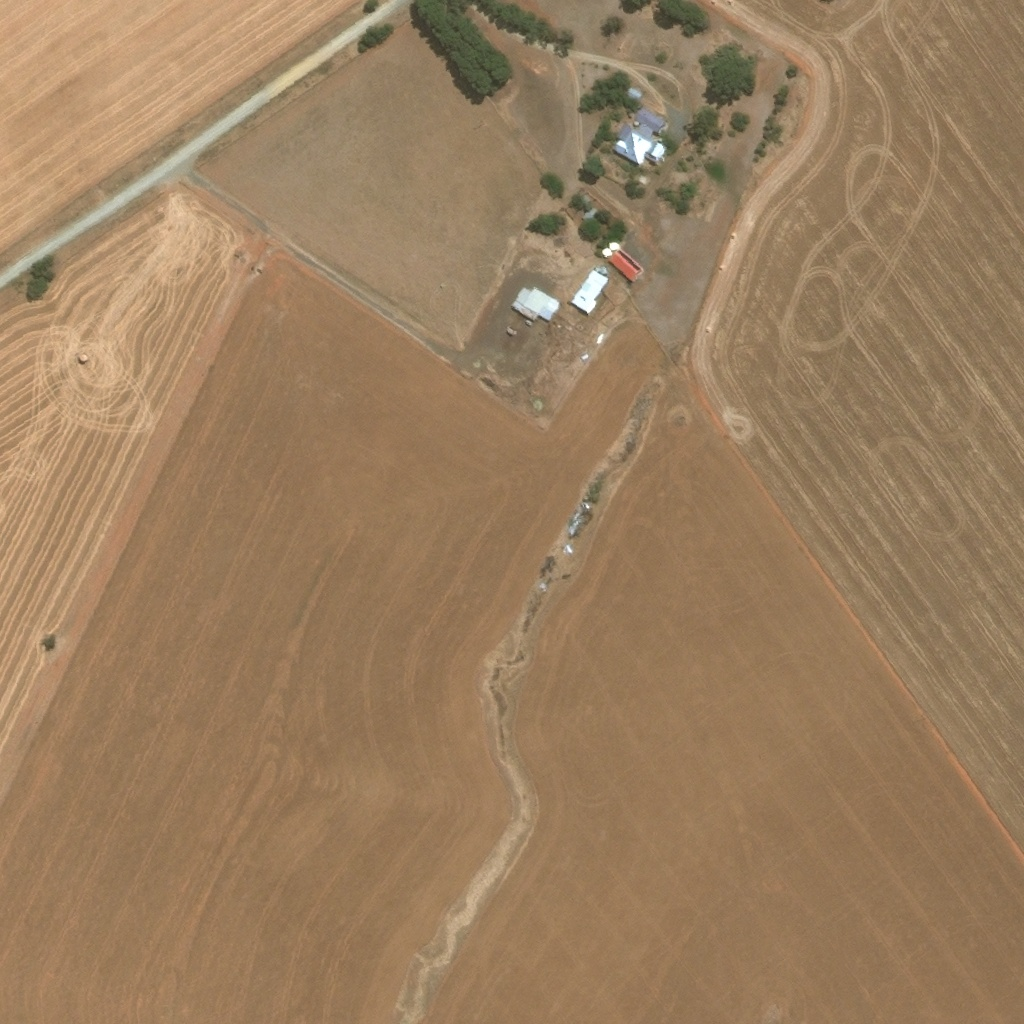0 no-damage: (608, 105, 665, 169), (510, 286, 560, 324), (570, 270, 608, 314), (606, 248, 644, 284), (567, 269, 591, 302), (608, 148, 638, 169), (566, 302, 590, 318), (607, 242, 617, 252), (601, 248, 610, 258)
